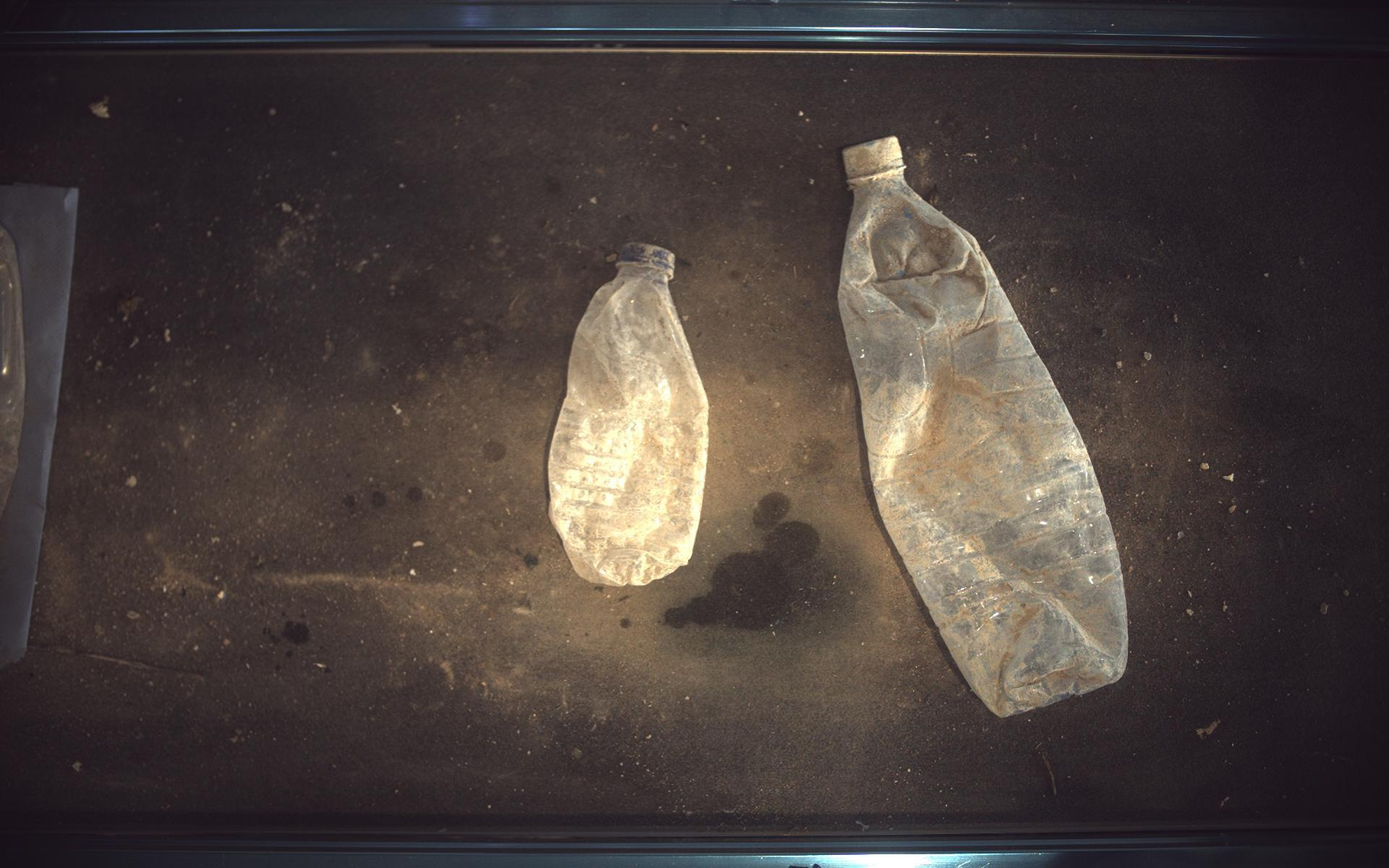general_w: (840, 136, 1130, 718), (548, 242, 710, 587)
